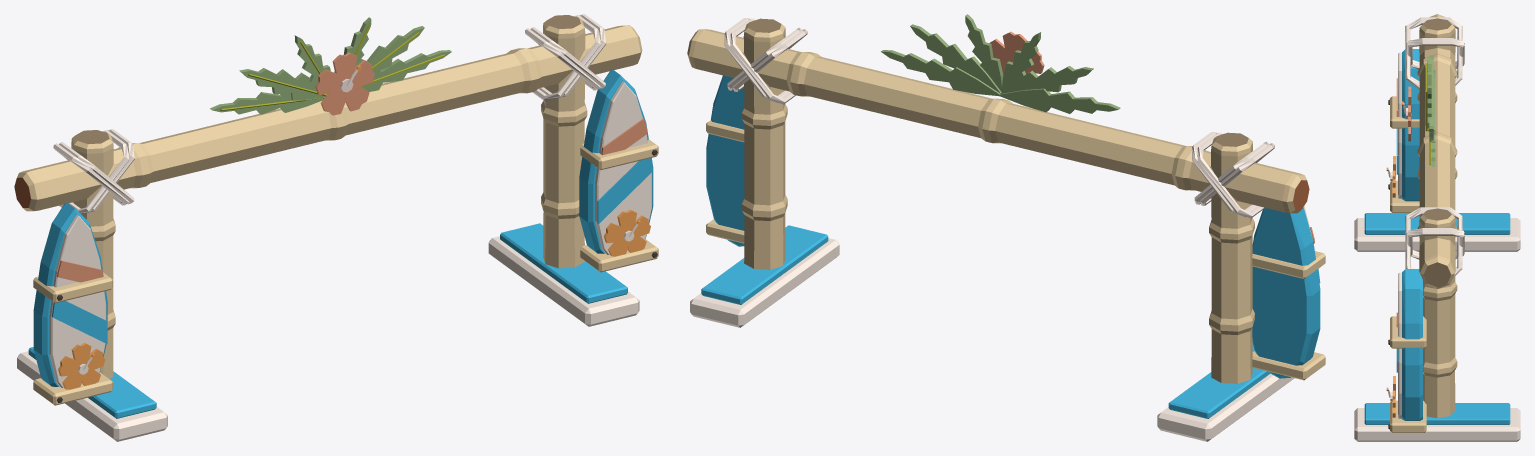
Rendered from startLightFrame.glb.
The picture shows the model from 3 angles, left to right: view 1: azimuth 30°, elevation 25°; view 2: azimuth 150°, elevation 25°; view 3: azimuth 270°, elevation 25°; orthographic projection. The views are drawn at different scales.
Parts seen in each view (by area): view 1: startLightFrame; view 2: startLightFrame; view 3: startLightFrame.
Part boxes in pixels (box(x1,y1,x2,y2)): startLightFrame: box(14, 14, 658, 441); startLightFrame: box(687, 14, 1325, 441); startLightFrame: box(1354, 14, 1520, 441).
Size of the model in its own units: 5.6 by 2.8 by 1.6.
1 material, 1 textured.
